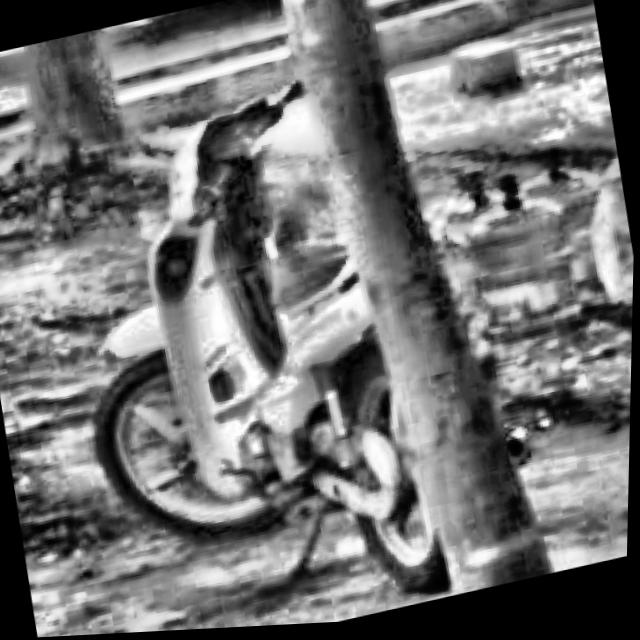motorcycle: (9, 33, 531, 639)
